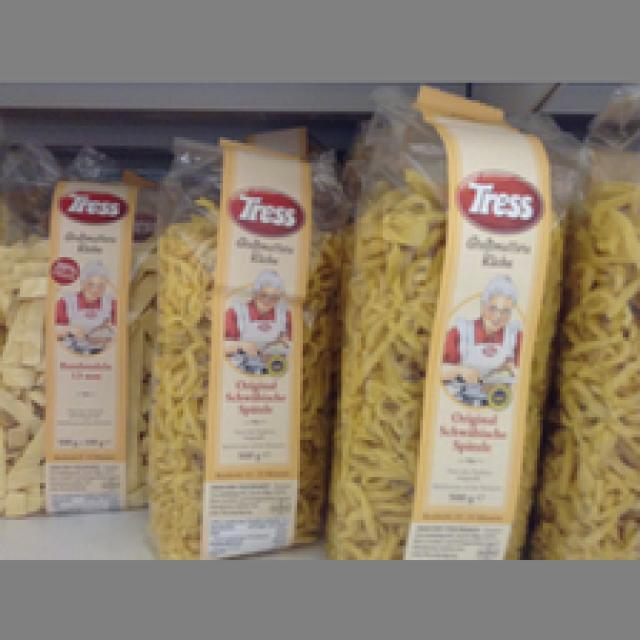groceries: (326, 83, 574, 560), (151, 137, 340, 554), (0, 139, 151, 511)
